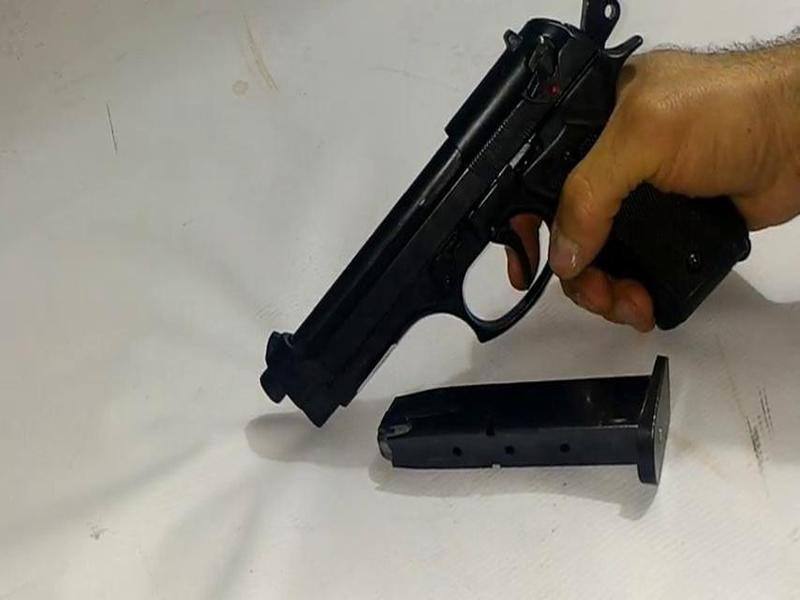Pistola: (242, 1, 765, 430)
